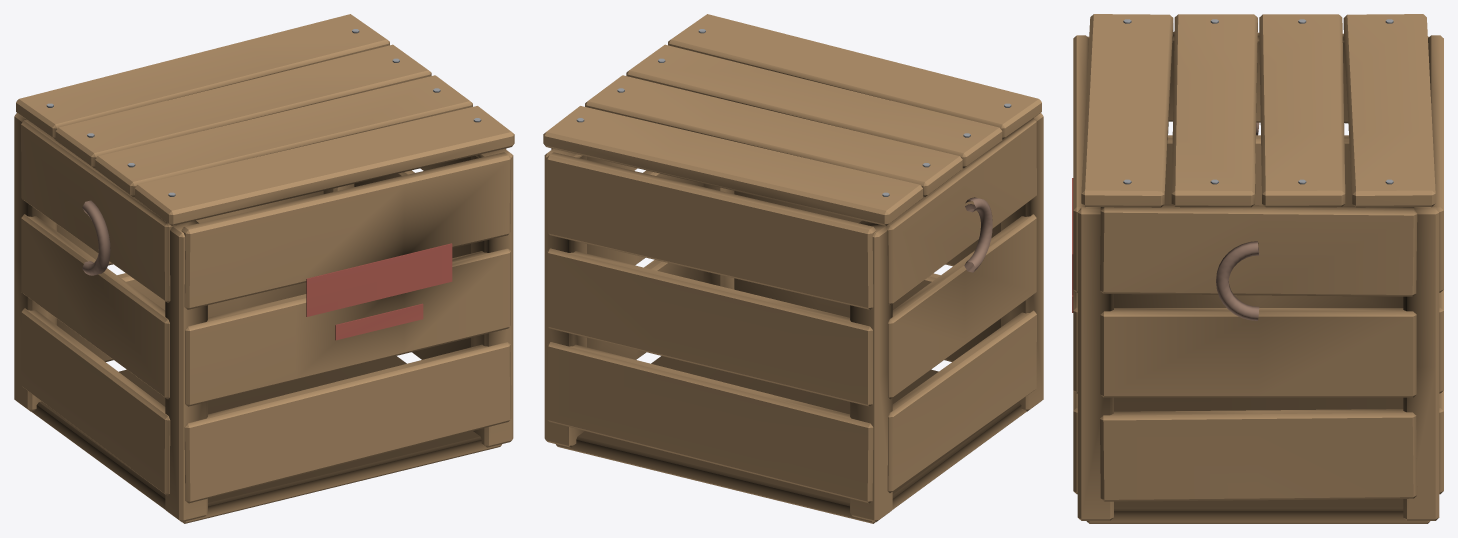
The model's file is seat_crate.glb.
3 views of the same model, side by side, from view 1: azimuth 30°, elevation 25°; view 2: azimuth 150°, elevation 25°; view 3: azimuth 270°, elevation 25° (orthographic). The views are drawn at different scales.
Parts seen in each view (by area): view 1: PART; view 2: PART; view 3: PART.
Part boxes in pixels (x1=…): PART: x1=14, y1=14, x2=514, y2=523; PART: x1=543, y1=14, x2=1043, y2=523; PART: x1=1072, y1=14, x2=1443, y2=523.
Size of the model in its own units: 0.5 by 0.415 by 0.4113.
